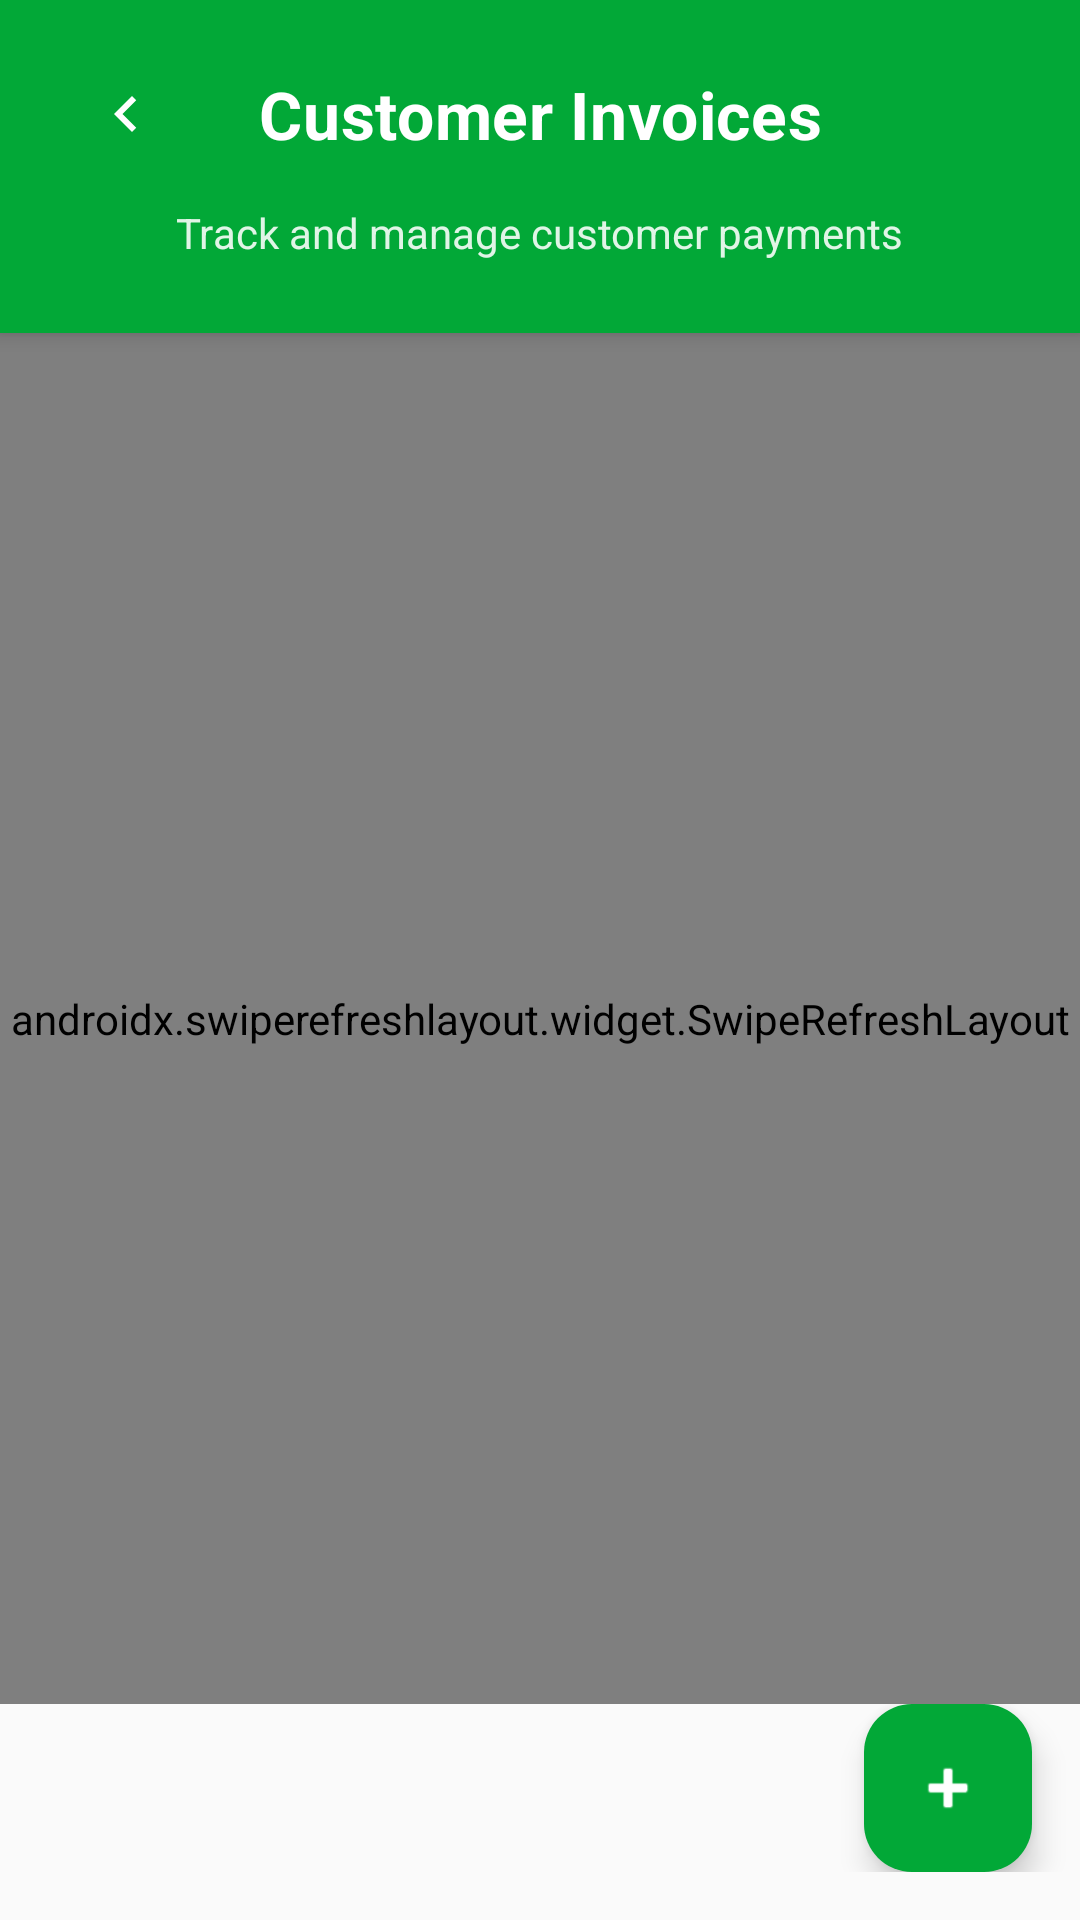

Screen size 1080x1920. Icon name, then its box in pixels as Rect(x1, y1, x2, y2):
add: Rect(864, 1704, 1032, 1872)
Back: Rect(114, 96, 136, 132)
